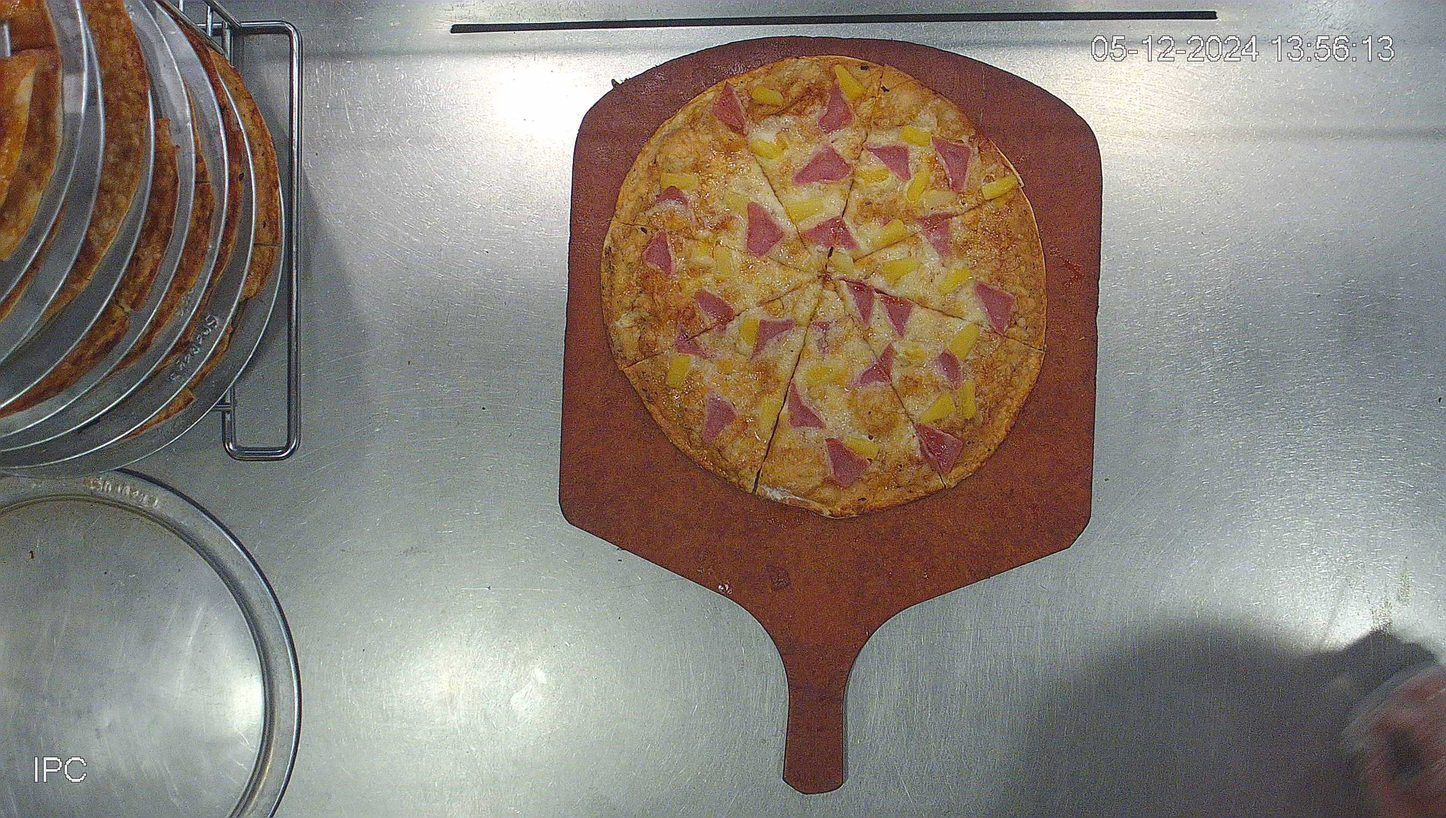manager_choice: (600, 54, 1048, 519)
